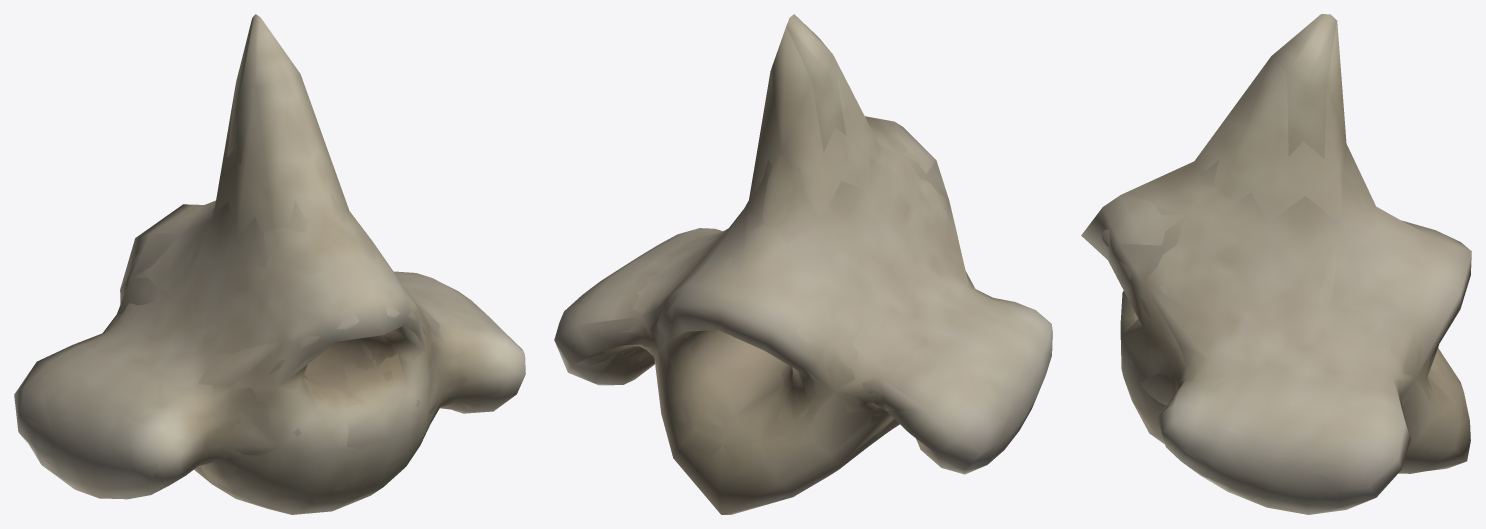
The model's file is vertebrae thoracicae 10.fbx.
3 views of the same model, side by side, from view 1: azimuth 30°, elevation 25°; view 2: azimuth 150°, elevation 25°; view 3: azimuth 270°, elevation 25° (orthographic). The views are drawn at different scales.
Parts seen in each view (by area): view 1: vertebrae thoracicae 10, vertebrae thoracicae 10 low, vertebrae thoracicae 10 high; view 2: vertebrae thoracicae 10, vertebrae thoracicae 10 low, vertebrae thoracicae 10 high; view 3: vertebrae thoracicae 10, vertebrae thoracicae 10 low, vertebrae thoracicae 10 high.
Boxes of the visible parts, x1,y1,x2,y2 form: vertebrae thoracicae 10: [14, 14, 525, 514]; vertebrae thoracicae 10 low: [15, 74, 525, 514]; vertebrae thoracicae 10 high: [29, 193, 502, 493]; vertebrae thoracicae 10: [554, 14, 1052, 514]; vertebrae thoracicae 10 low: [556, 27, 1052, 514]; vertebrae thoracicae 10 high: [561, 130, 1047, 474]; vertebrae thoracicae 10: [1081, 14, 1471, 514]; vertebrae thoracicae 10 low: [1083, 21, 1471, 512]; vertebrae thoracicae 10 high: [1101, 160, 1464, 498].
Bounding box in the file's own units: 1.44 × 1.44 × 1.12.
Materials: 1 (1 with a texture image).
